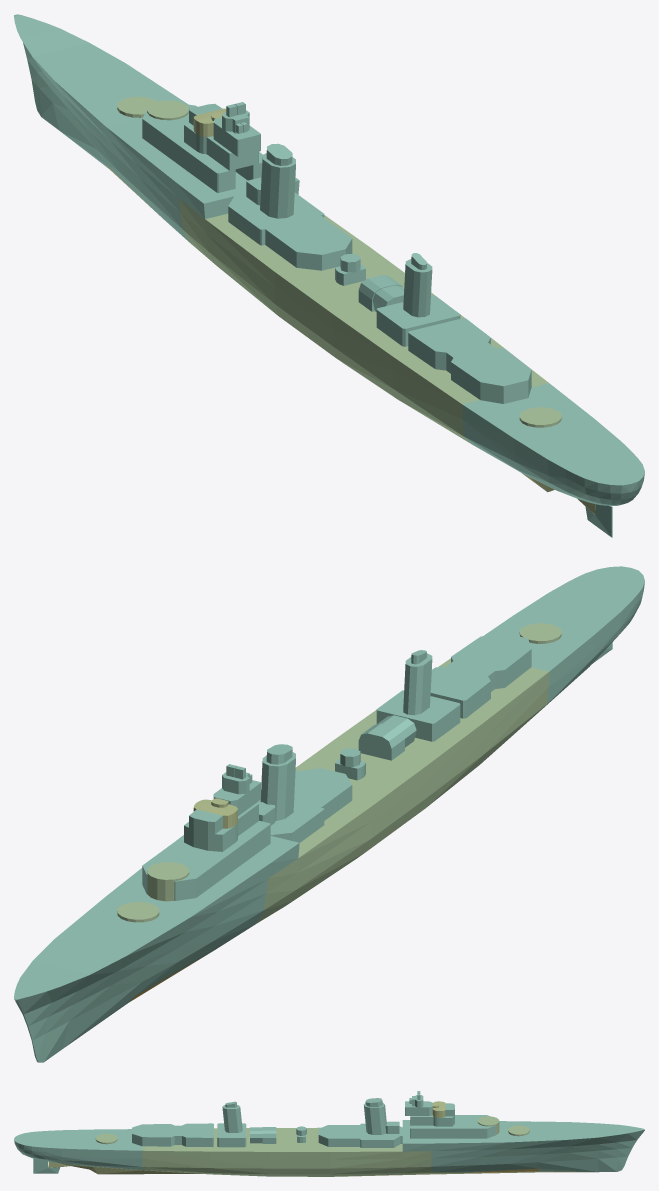
The model's file is PFSC105_armor.glb.
The picture shows the model from 3 angles, top to bottom: view 1: azimuth 30°, elevation 25°; view 2: azimuth 150°, elevation 25°; view 3: azimuth 270°, elevation 25°; orthographic projection. The views are drawn at different scales.
Visible parts, largest first — view 1: armor; view 2: armor; view 3: armor.
Part boxes in pixels (box(x1,y1,x2,y2)): armor: box(14, 14, 644, 537); armor: box(14, 566, 644, 1062); armor: box(14, 1091, 644, 1176).
Size of the model in its own units: 18.15 by 28.26 by 200.
